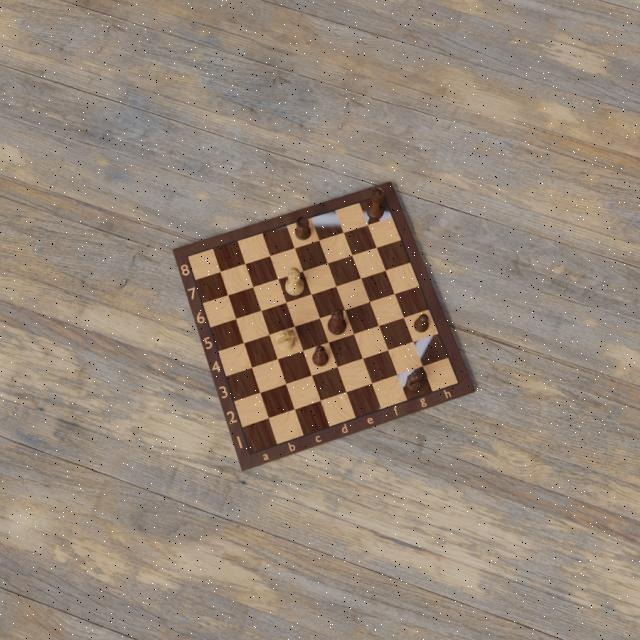black-bishop: (312, 344, 330, 368)
black-king: (327, 308, 348, 336)
black-knight: (406, 369, 430, 394)
black-pawn: (414, 314, 430, 334)
black-queen: (365, 188, 386, 220)
black-rook: (295, 214, 313, 242)
white-king: (284, 267, 306, 297)
white-knight: (275, 328, 298, 352)
